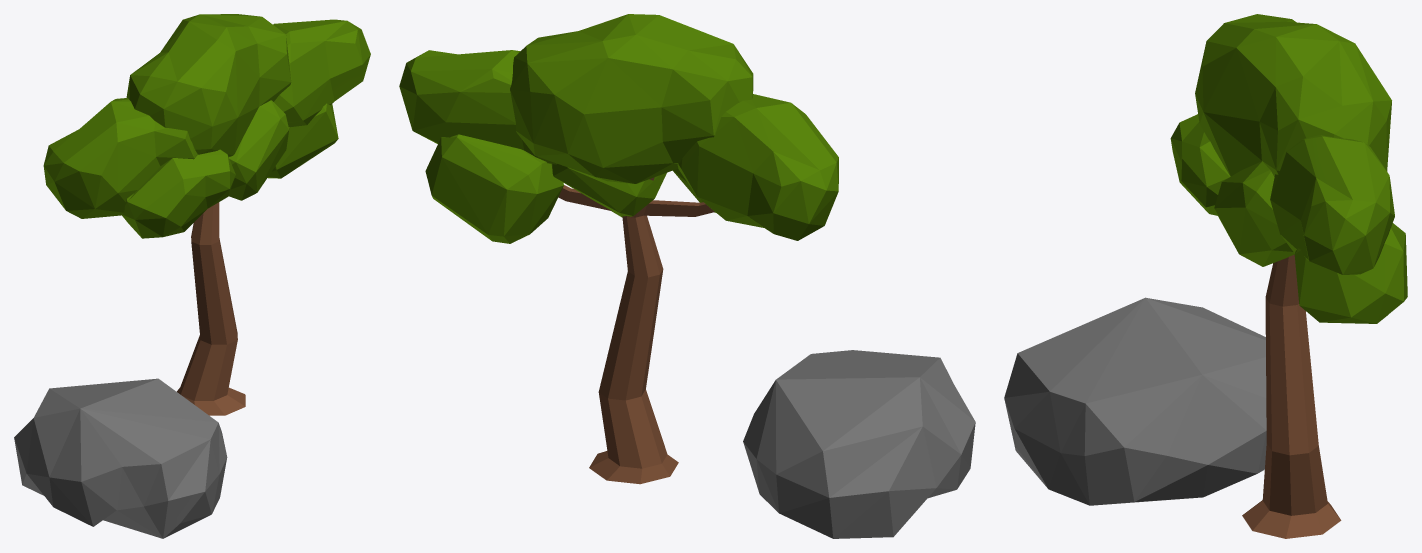
The model's file is ArbolNormales.fbx.
The picture shows the model from 3 angles, left to right: view 1: azimuth 30°, elevation 25°; view 2: azimuth 150°, elevation 25°; view 3: azimuth 270°, elevation 25°; orthographic projection. The views are drawn at different scales.
Visible parts, largest first — view 1: arbol_2; view 2: arbol_2; view 3: arbol_2.
Part boxes in pixels (box(x1,y1,x2,y2)): arbol_2: box(14, 14, 370, 538); arbol_2: box(399, 14, 975, 538); arbol_2: box(1004, 14, 1407, 538).
Bounding box in the file's own units: 736 × 711 × 500.
